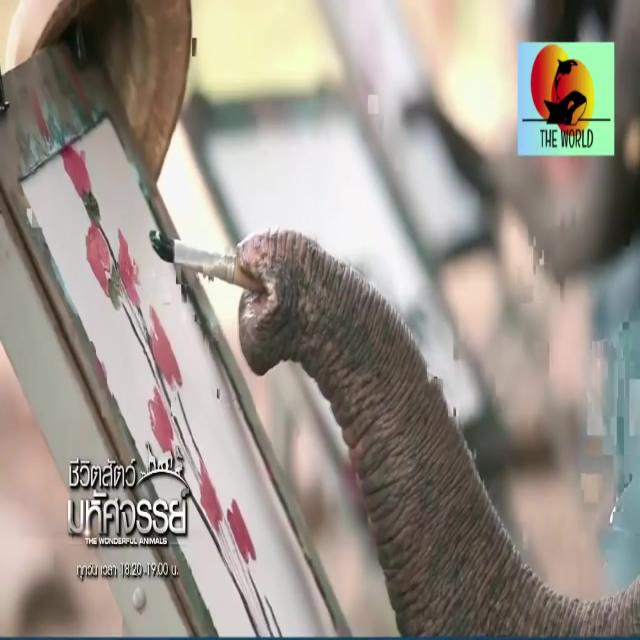Elephant: (225, 207, 640, 640)
